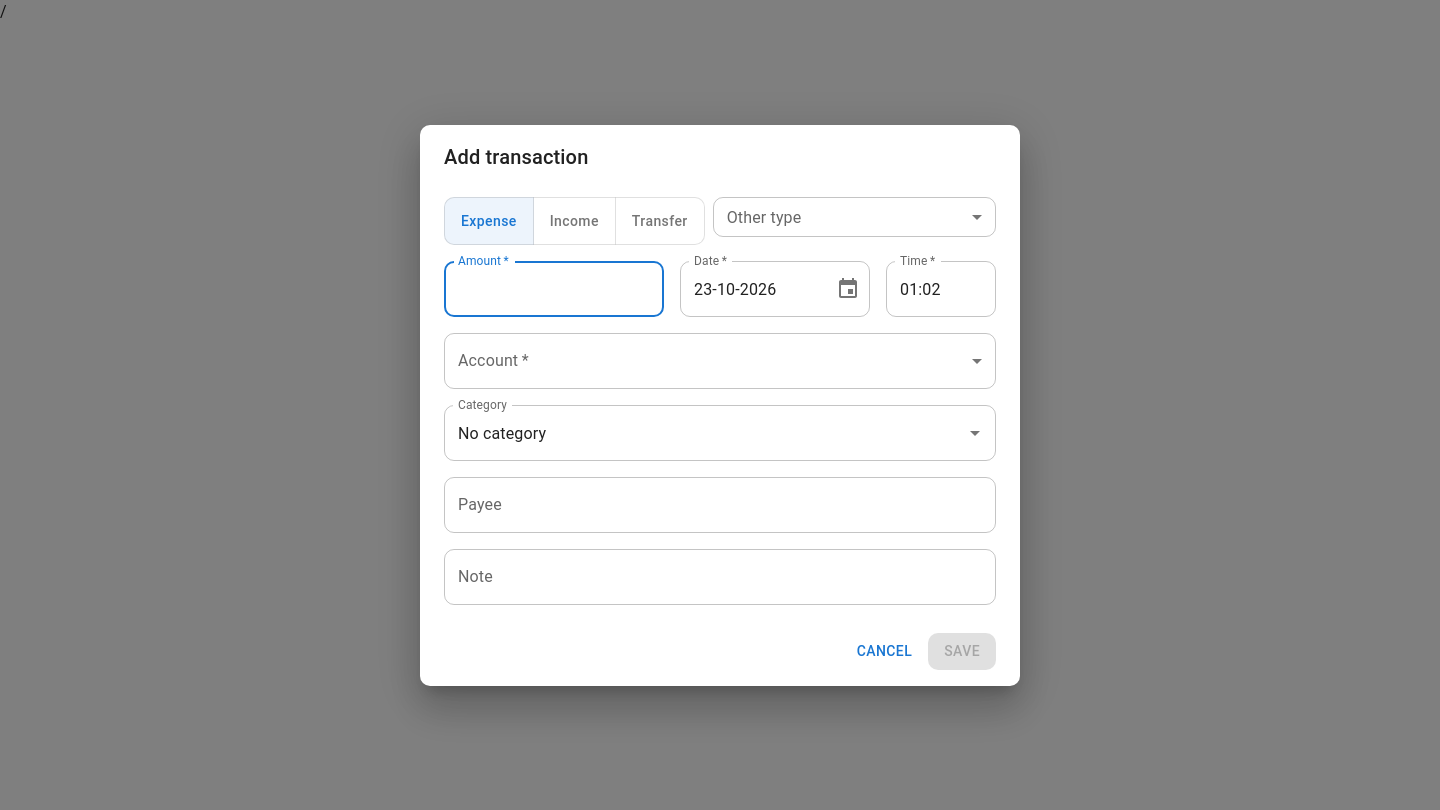
Scenario: filling in from my own history (waterflow#65) › keeps what the user chose
Click the dropdown named "Account" next to "Account". click: (720, 361)
box: [444,333,996,389]
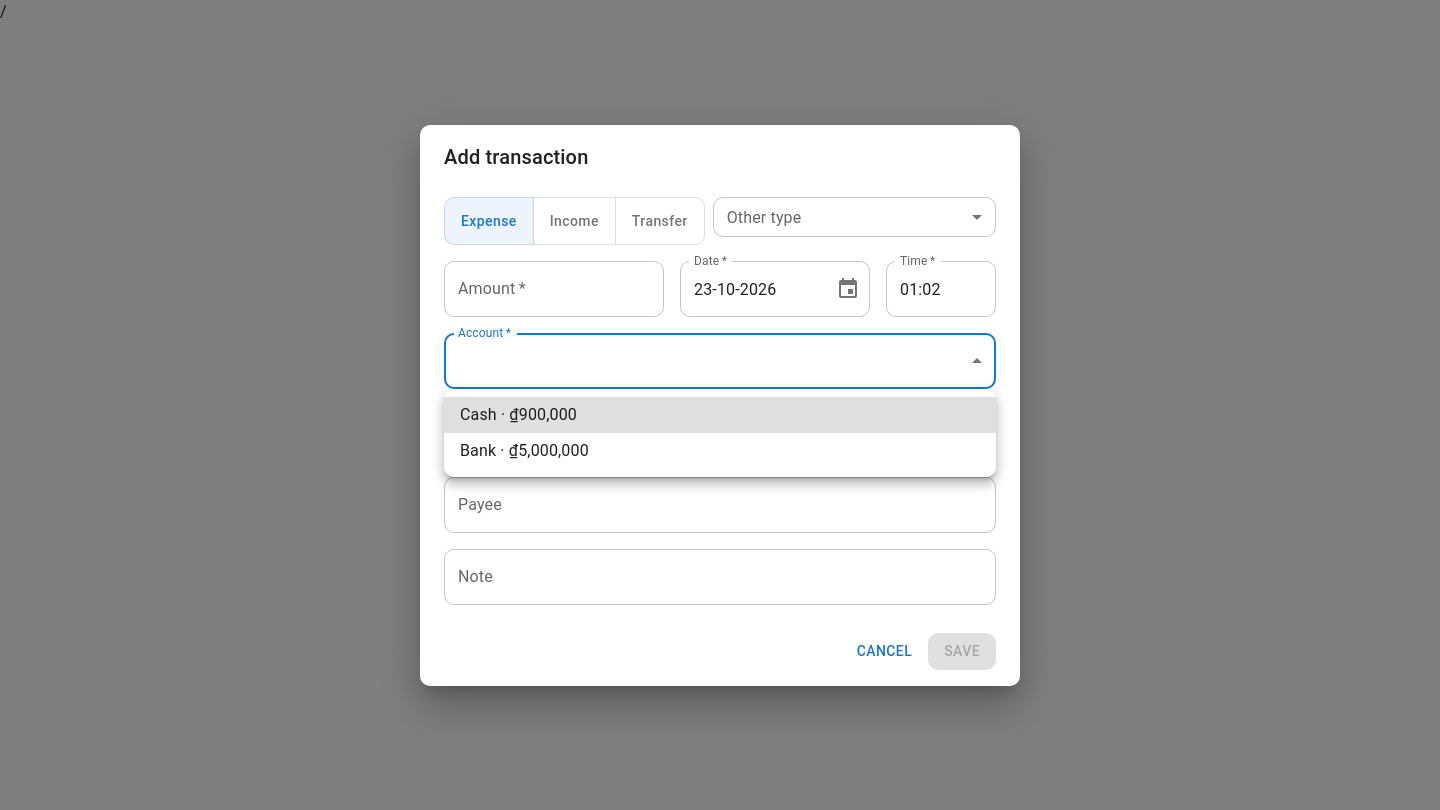
Click the option "Cash · ₫900,000". click: (518, 414)
box: [444,397,996,433]
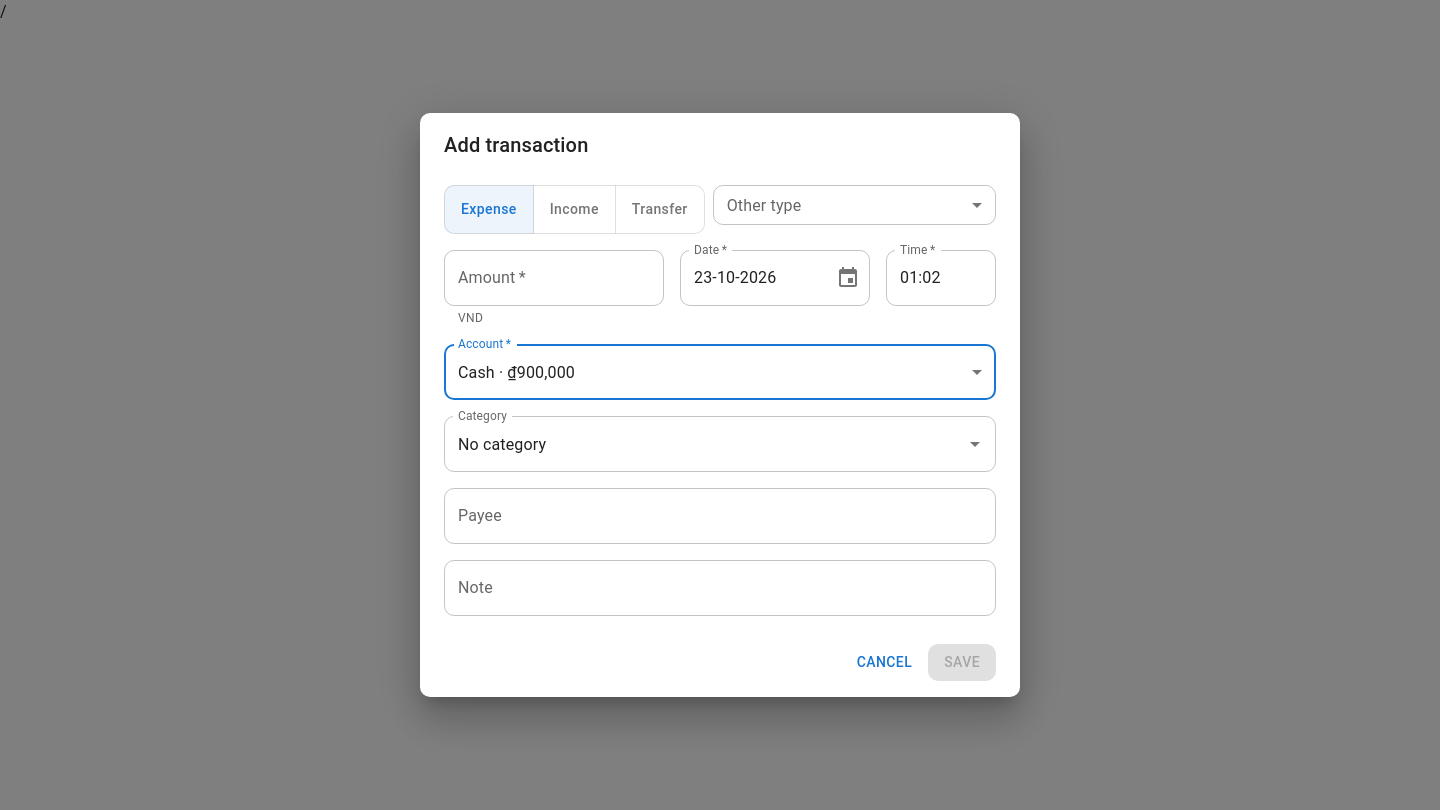
Type "Mine" into the field labelled "Payee". click: (720, 516)
box: [444,488,996,544]
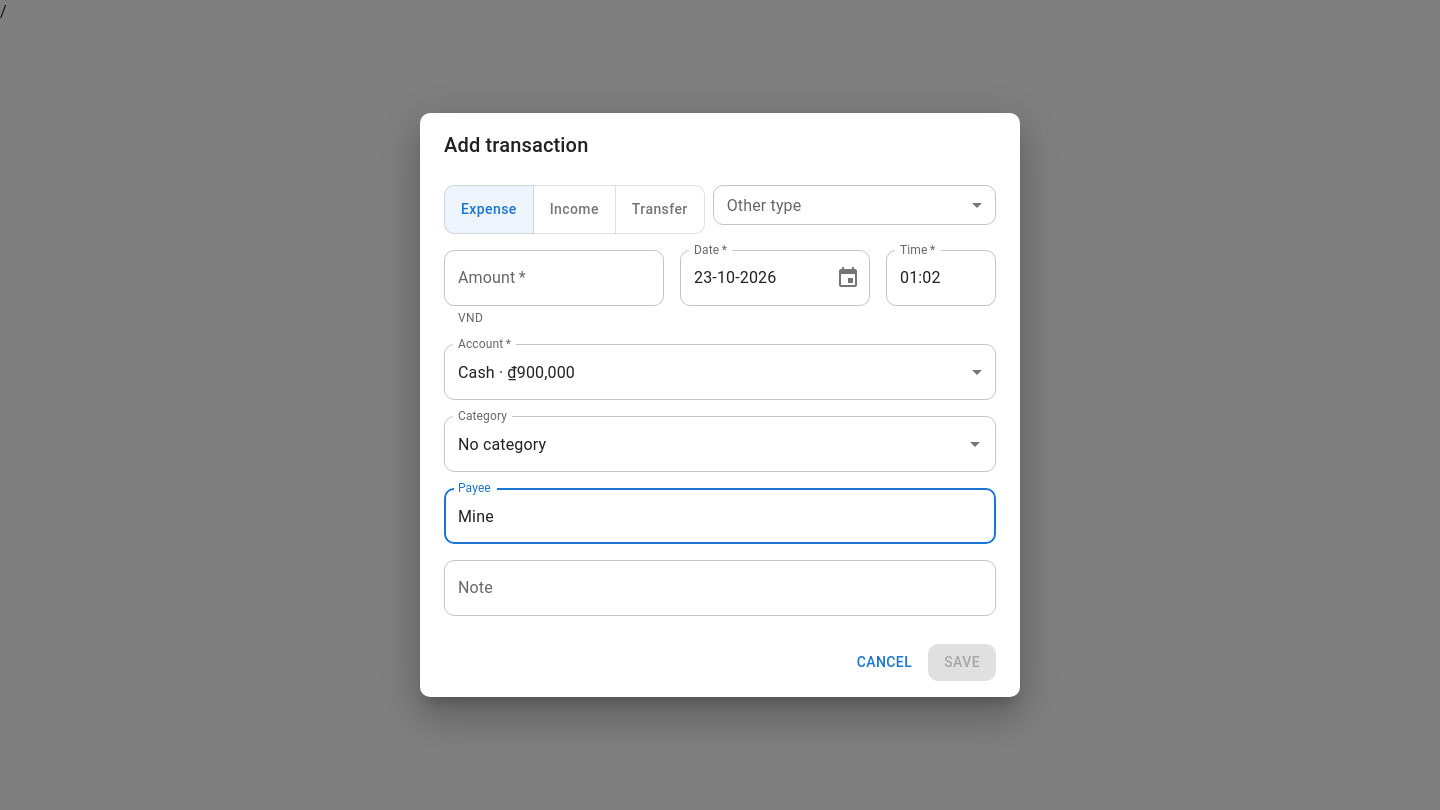
Type "5000" into the field labelled "Amount *". click: (554, 278)
box: [444,250,664,306]
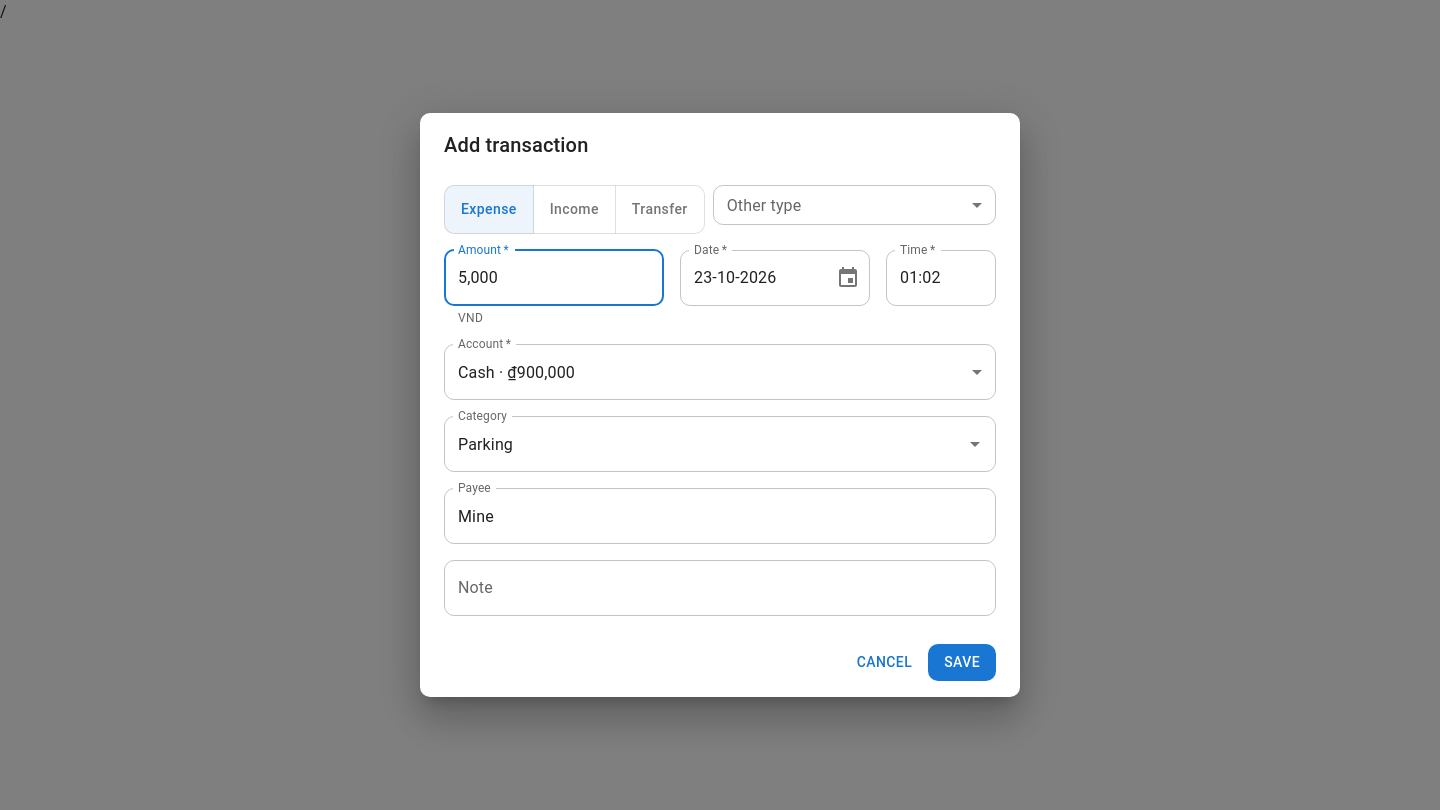
Check: the dropdown named "Account" shows "Cash", box [458,363,575,382]
Check: the dropdown labelled "Category" holds "Parking", box [453,426,931,464]
